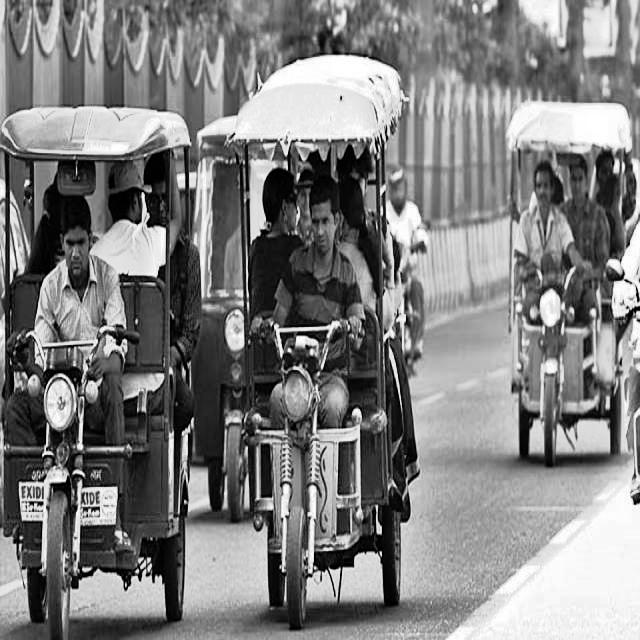Toto: (0, 100, 188, 639), (251, 53, 403, 632), (500, 100, 634, 474)
